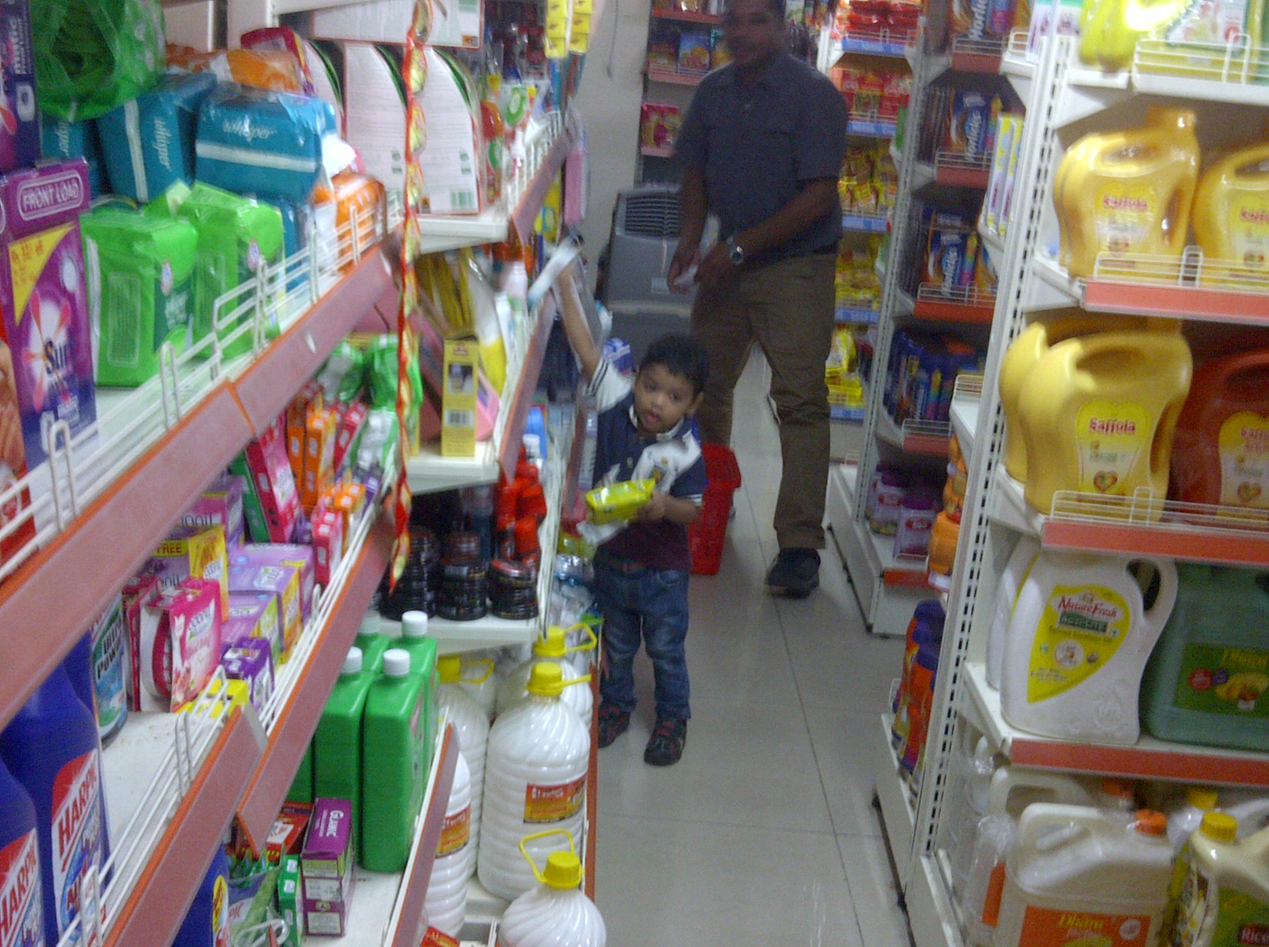saffola: (967, 33, 1269, 565)
